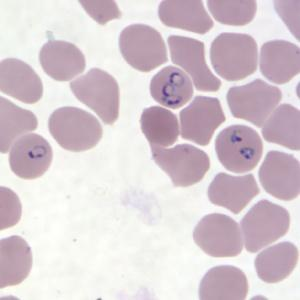Infected: (215, 124, 264, 173), (8, 133, 55, 180), (149, 64, 194, 110)
Uninfected: (167, 34, 220, 93), (69, 69, 119, 125), (241, 198, 291, 252), (117, 23, 170, 73), (178, 93, 227, 147), (47, 106, 104, 152), (153, 142, 210, 188), (229, 79, 282, 125), (210, 32, 259, 81), (193, 212, 245, 257), (257, 148, 300, 201), (206, 171, 258, 214), (254, 240, 300, 284), (41, 39, 87, 82), (0, 58, 43, 103), (259, 104, 300, 150), (198, 264, 248, 300), (260, 40, 300, 83), (139, 105, 179, 146)
